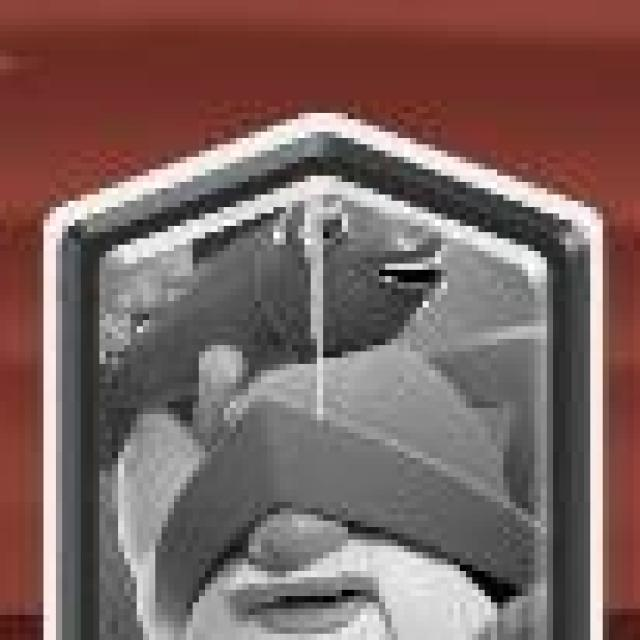Fisherman: (38, 111, 614, 640)
